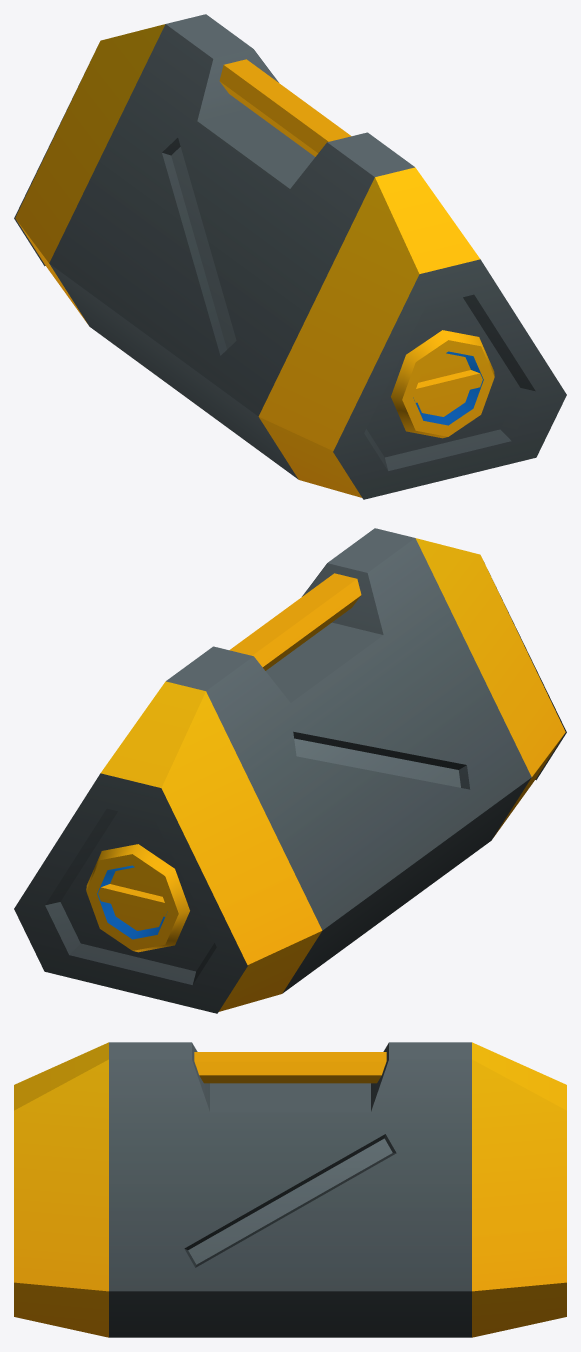
The model's file is Gas_can_016.glb.
3 renders of one model, top to bottom at view 1: azimuth 30°, elevation 25°; view 2: azimuth 150°, elevation 25°; view 3: azimuth 270°, elevation 25°, orthographic. The views are drawn at different scales.
Visible parts, largest first — view 1: Gas_can_016; view 2: Gas_can_016; view 3: Gas_can_016.
Part boxes in pixels (<box>): Gas_can_016: <box>14,14,566,499</box>; Gas_can_016: <box>14,528,566,1013</box>; Gas_can_016: <box>14,1042,566,1337</box>.
Size of the model in its own units: 0.3399 by 0.3377 by 0.6873.
2 materials, 2 textured.
